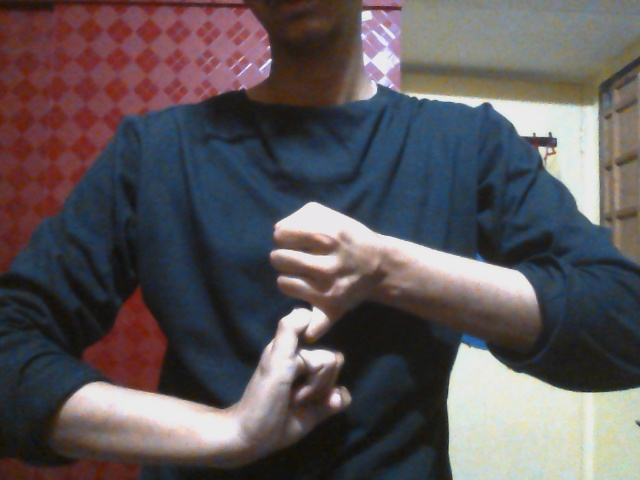S: (241, 200, 394, 464)
